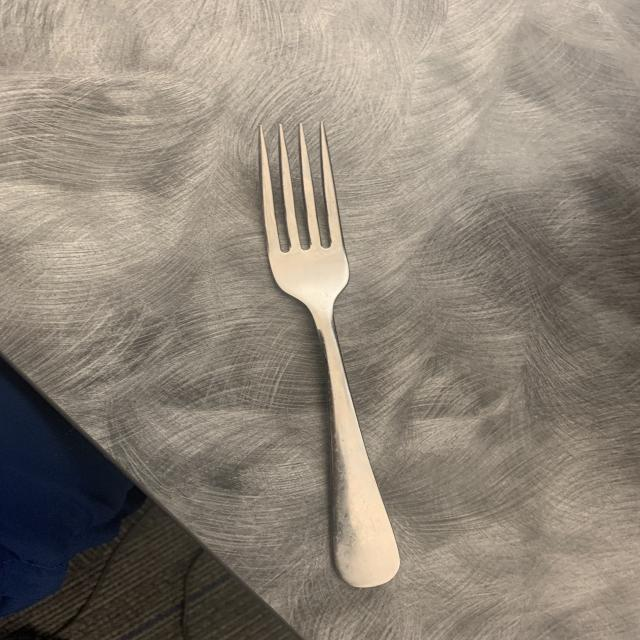fork: (225, 117, 453, 600)
